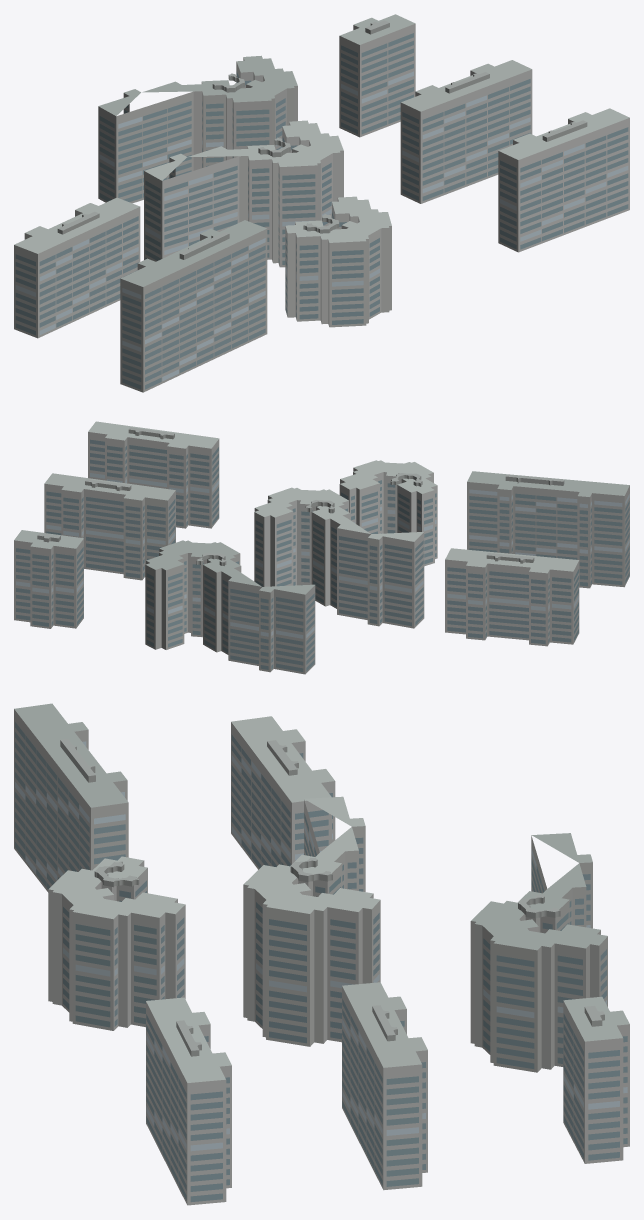
File: apt-a13410003.glb
3 renders of one model, top to bottom at view 1: azimuth 30°, elevation 25°; view 2: azimuth 150°, elevation 25°; view 3: azimuth 270°, elevation 25°, orthographic. The views are drawn at different scales.
Visible parts, largest first — view 1: apt-a13410003; view 2: apt-a13410003; view 3: apt-a13410003.
Part boxes in pixels (x1,y1,x2,y2): apt-a13410003: (14, 14, 629, 392); apt-a13410003: (14, 421, 629, 674); apt-a13410003: (14, 703, 629, 1205).
Size of the model in its own units: 221 by 40 by 153.
